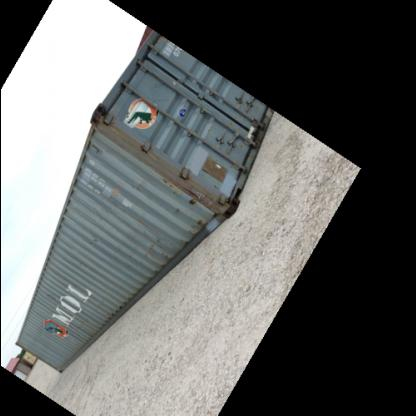Damage: (39, 297, 93, 342), (138, 238, 176, 266), (182, 192, 222, 216), (76, 235, 104, 256), (155, 174, 177, 192), (124, 178, 146, 194), (184, 218, 204, 233), (166, 206, 179, 218)
